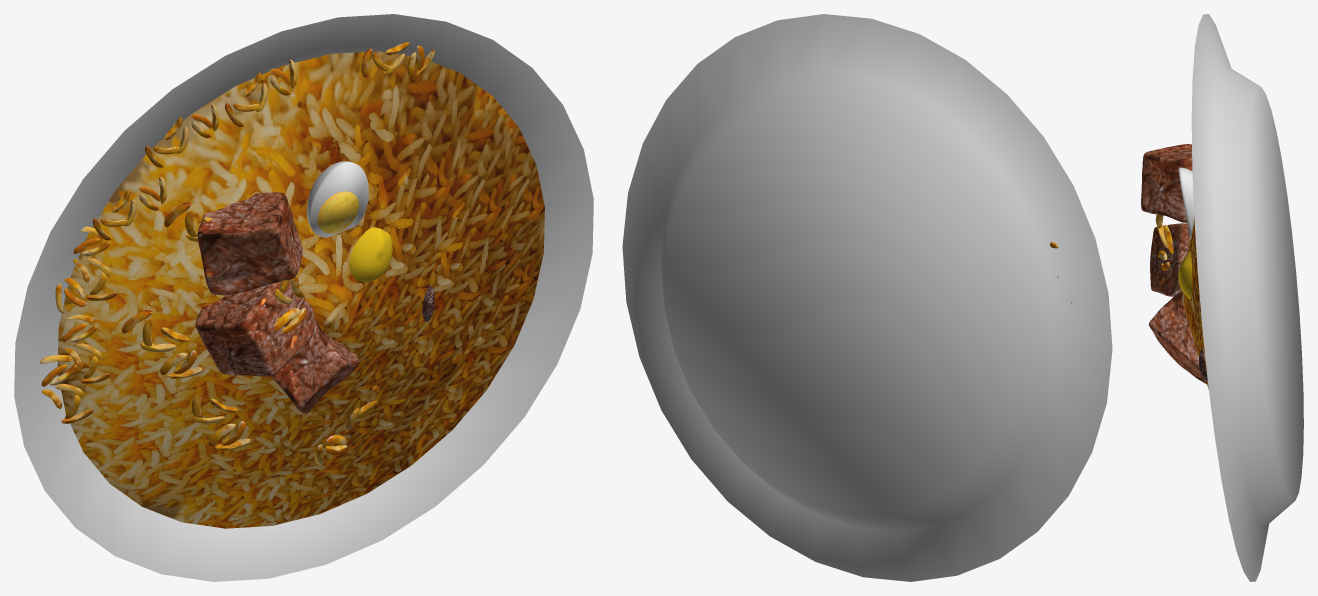
File: smbeefbryani-v1.glb
The picture shows the model from 3 angles, left to right: view 1: azimuth 30°, elevation 25°; view 2: azimuth 150°, elevation 25°; view 3: azimuth 270°, elevation 25°; orthographic projection. The views are drawn at different scales.
Parts seen in each view (by area): view 1: Cone, Circle.002, Cube.003, Cube.001, Cube.002, Sphere, Sphere.001, Plane.025, Plane.004, Plane.028, Plane.011, Plane.012 (+6 smaller); view 2: Circle.002; view 3: Circle.002, Cube.003, Cube.002, Cube.001, Cone, Sphere, Plane.029, Sphere.001.
Boxes of the visible parts, x1,y1,x2,y2 form: Cone: (57, 51, 544, 528); Circle.002: (14, 14, 593, 581); Cube.003: (197, 192, 302, 295); Cube.001: (195, 279, 315, 376); Cube.002: (271, 318, 359, 414); Sphere: (307, 161, 368, 237); Sphere.001: (349, 227, 392, 282); Plane.025: (122, 310, 205, 378); Plane.004: (40, 355, 93, 423); Plane.028: (192, 392, 252, 450); Plane.011: (225, 59, 296, 126); Plane.012: (361, 42, 434, 78); Circle.002: (622, 14, 1112, 581); Circle.002: (1191, 14, 1303, 581); Cube.003: (1141, 144, 1192, 222); Cube.002: (1149, 290, 1206, 384); Cube.001: (1150, 223, 1189, 296); Cone: (1182, 217, 1208, 388); Sphere: (1178, 167, 1194, 239); Plane.029: (1155, 214, 1173, 270); Sphere.001: (1178, 251, 1191, 299).
Size of the model in its own units: 7.81 by 7.77 by 2.23.
Materials: 22 (19 with a texture image).
